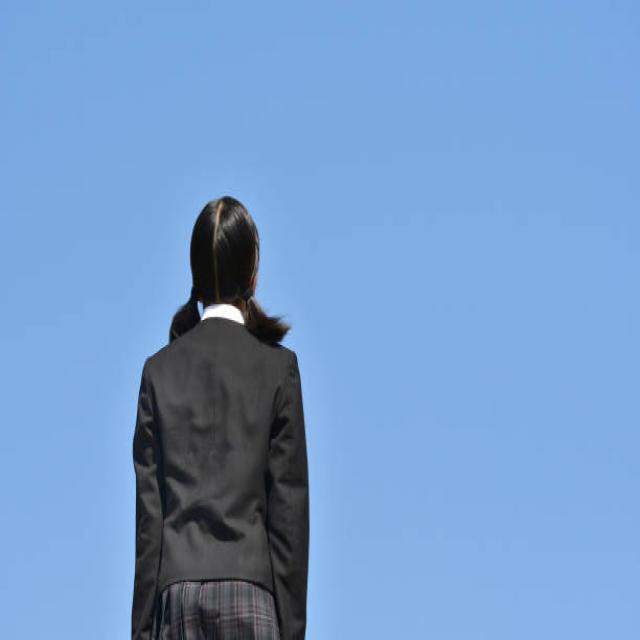no helmet: (186, 192, 268, 321)
